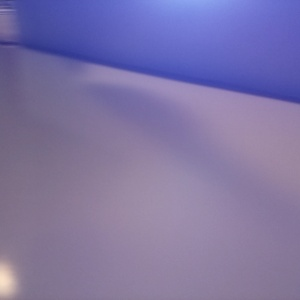alive_ball: (1, 31, 70, 122), (91, 21, 129, 61)
dead_ball: (54, 23, 92, 64)
